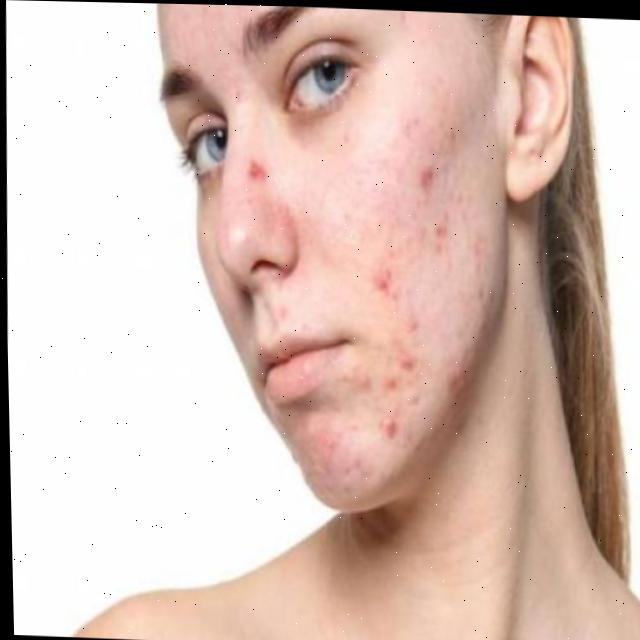Acne: (248, 150, 509, 469)
